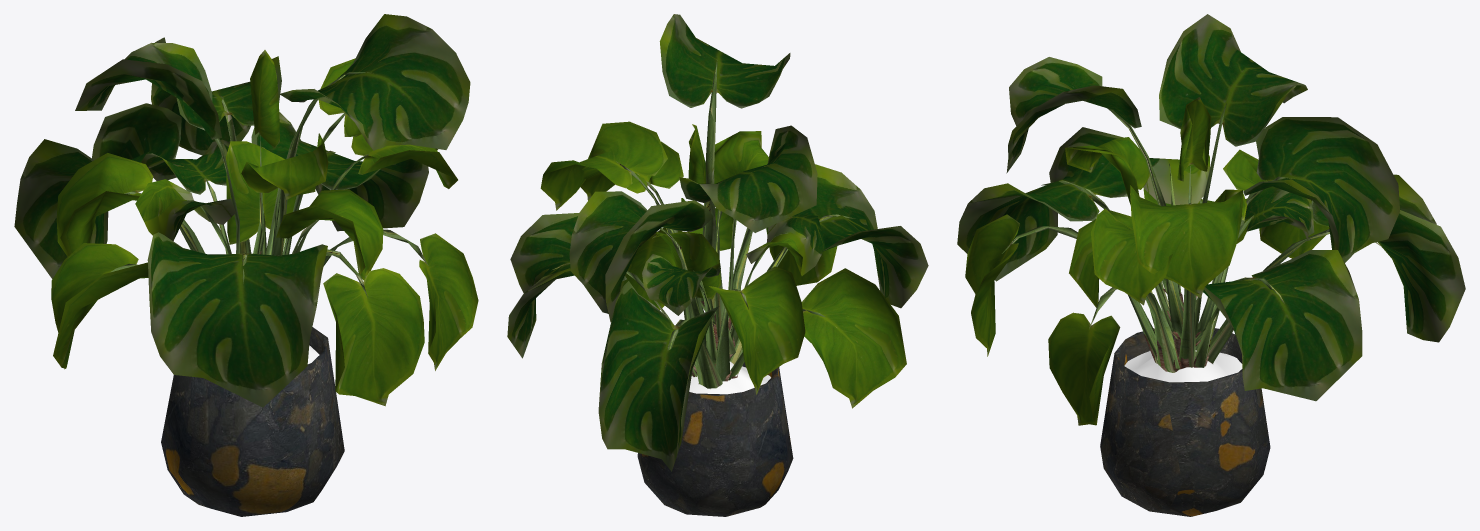
File: plant-bush-small.glb
The picture shows the model from 3 angles, left to right: view 1: azimuth 30°, elevation 25°; view 2: azimuth 150°, elevation 25°; view 3: azimuth 270°, elevation 25°; orthographic projection. The views are drawn at different scales.
Visible parts, largest first — view 1: Outdoor Garden set bush and Tree - Garden Set 54_25.001_leav, Outdoor Garden set bush and Tree - Garden Set 54_25.001_Mate, Outdoor Garden set bush and Tree - Garden Set 54_25.001_body; view 2: Outdoor Garden set bush and Tree - Garden Set 54_25.001_leav, Outdoor Garden set bush and Tree - Garden Set 54_25.001_Mate, Outdoor Garden set bush and Tree - Garden Set 54_25.001_body, Outdoor Garden set bush and Tree - Garden Set 54_25.001_soil; view 3: Outdoor Garden set bush and Tree - Garden Set 54_25.001_leav, Outdoor Garden set bush and Tree - Garden Set 54_25.001_Mate, Outdoor Garden set bush and Tree - Garden Set 54_25.001_body (×2), Outdoor Garden set bush and Tree - Garden Set 54_25.001_soil.
Boxes of the visible parts, x1,y1,x2,y2 form: Outdoor Garden set bush and Tree - Garden Set 54_25.001_leav: (14,14,478,407); Outdoor Garden set bush and Tree - Garden Set 54_25.001_Mate: (161,327,344,516); Outdoor Garden set bush and Tree - Garden Set 54_25.001_body: (110,72,428,297); Outdoor Garden set bush and Tree - Garden Set 54_25.001_leav: (507,14,928,471); Outdoor Garden set bush and Tree - Garden Set 54_25.001_Mate: (637,362,793,516); Outdoor Garden set bush and Tree - Garden Set 54_25.001_body: (552,60,855,388); Outdoor Garden set bush and Tree - Garden Set 54_25.001_soil: (689,361,770,394); Outdoor Garden set bush and Tree - Garden Set 54_25.001_leav: (957,14,1465,425); Outdoor Garden set bush and Tree - Garden Set 54_25.001_Mate: (1100,328,1270,516); Outdoor Garden set bush and Tree - Garden Set 54_25.001_body (×2): (1002,103,1380,372); Outdoor Garden set bush and Tree - Garden Set 54_25.001_soil: (1124,350,1242,382).
Size of the model in its own units: 0.3217 by 0.3626 by 0.3619.
Materials: 5 (4 with a texture image).
